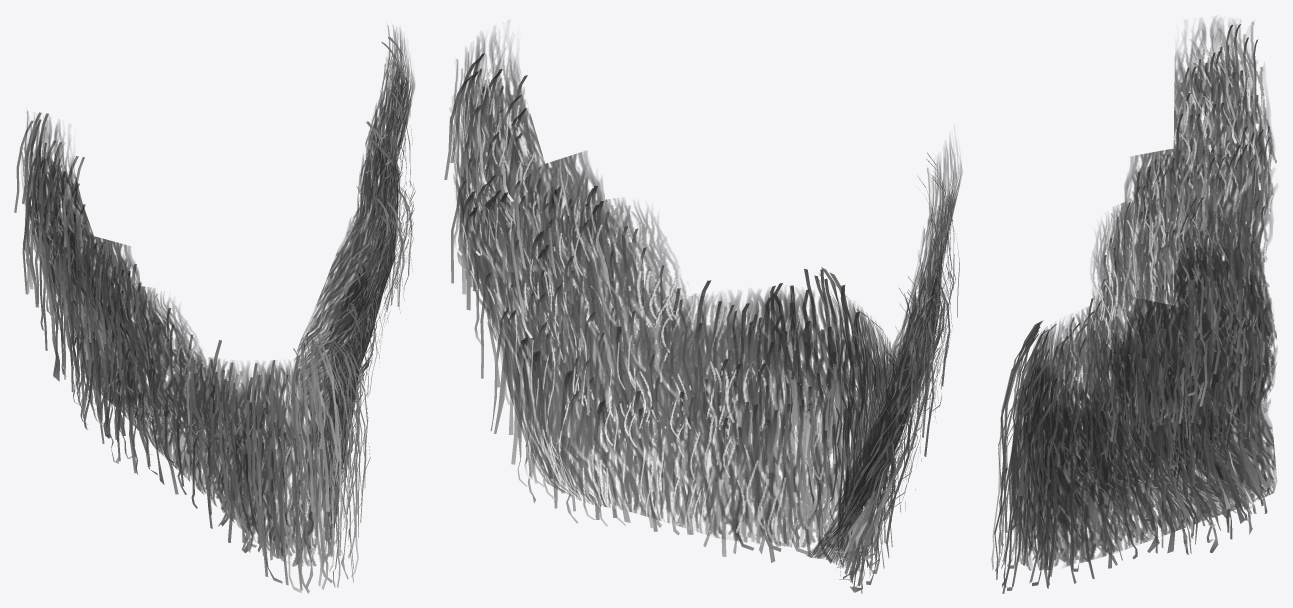
File: facial_beard_long.gltf
3 renders of one model, left to right at view 1: azimuth 30°, elevation 25°; view 2: azimuth 150°, elevation 25°; view 3: azimuth 270°, elevation 25°, orthographic. The views are drawn at different scales.
Visible parts, largest first — view 1: facial_beard_long; view 2: facial_beard_long; view 3: facial_beard_long.
Part boxes in pixels (left/top/right/bottom): facial_beard_long: left=14, top=25, right=415, bottom=593; facial_beard_long: left=444, top=30, right=962, bottom=593; facial_beard_long: left=991, top=17, right=1277, bottom=593.
Bounding box in the file's own units: 0.1394 × 0.154 × 0.0845.
Materials: 1 (1 with a texture image).
